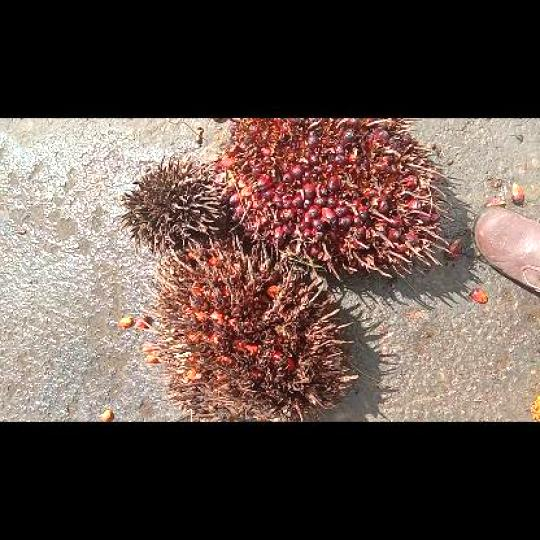masak: (214, 118, 453, 277)
terlalu masak: (142, 236, 356, 421)
